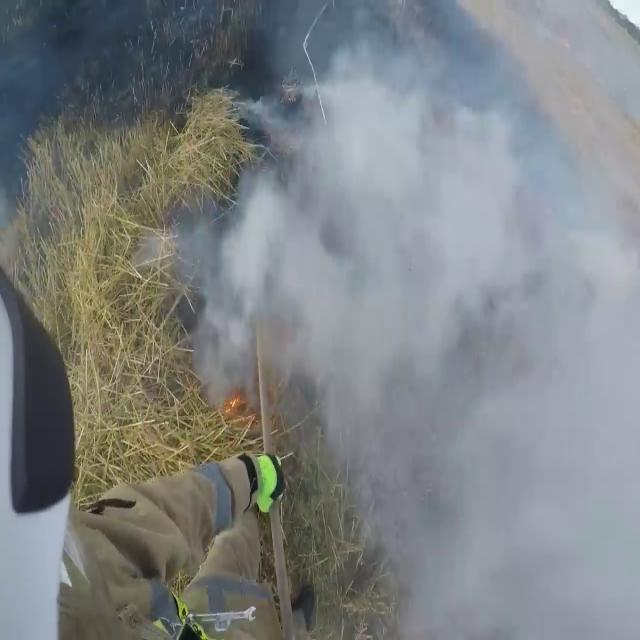Smoke: (185, 0, 640, 636)
